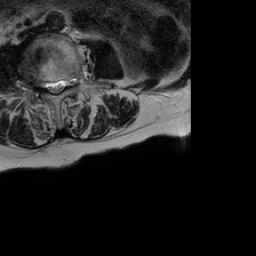CCS_severe_stenosis: (52, 73, 59, 101)
LFS_normal: (67, 68, 75, 94)
LLS_normal: (59, 70, 67, 97)
RFS_stenosis: (37, 72, 44, 97)
RLS_normal: (44, 74, 52, 98)
